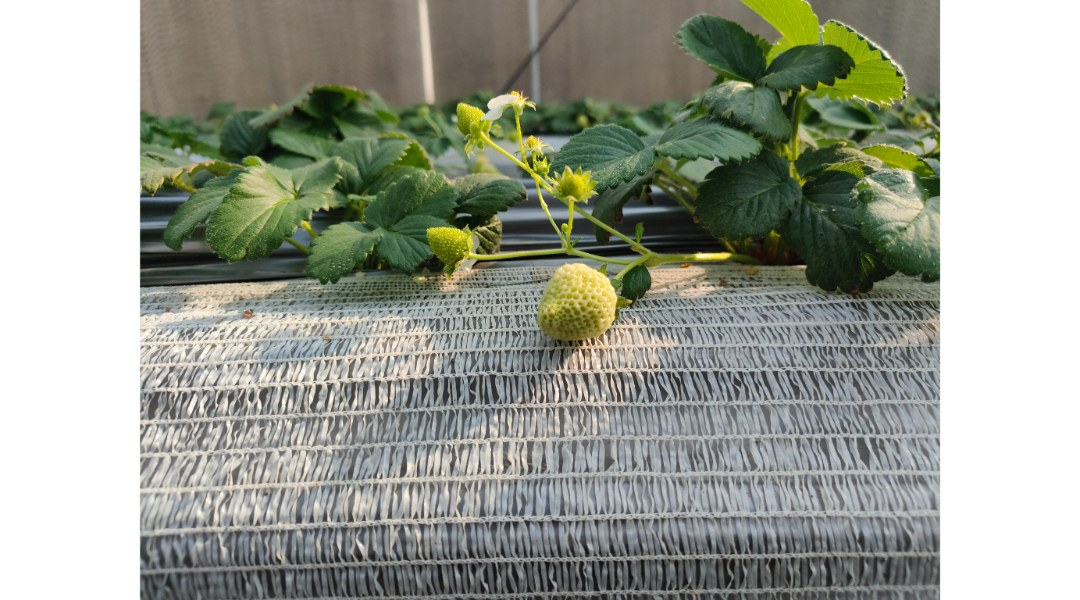berry: (534, 263, 622, 360), (442, 90, 491, 150), (414, 216, 474, 261), (549, 156, 596, 210), (516, 134, 561, 165)
flower: (487, 89, 545, 122)
strain: (576, 206, 650, 252), (646, 243, 733, 266), (460, 246, 563, 261)
